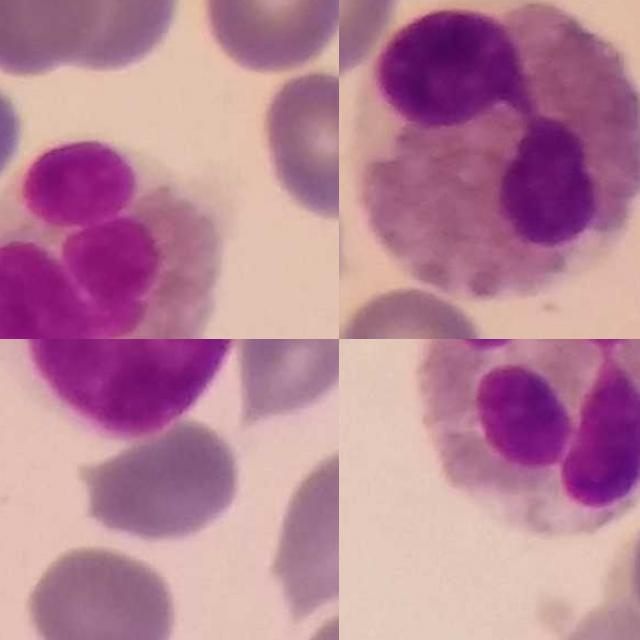Eosinophil: (354, 0, 640, 302), (415, 339, 640, 538), (0, 141, 225, 339)
Lymphocyte: (0, 339, 250, 440)
